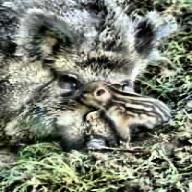boar: (0, 0, 178, 153), (78, 80, 174, 146)
